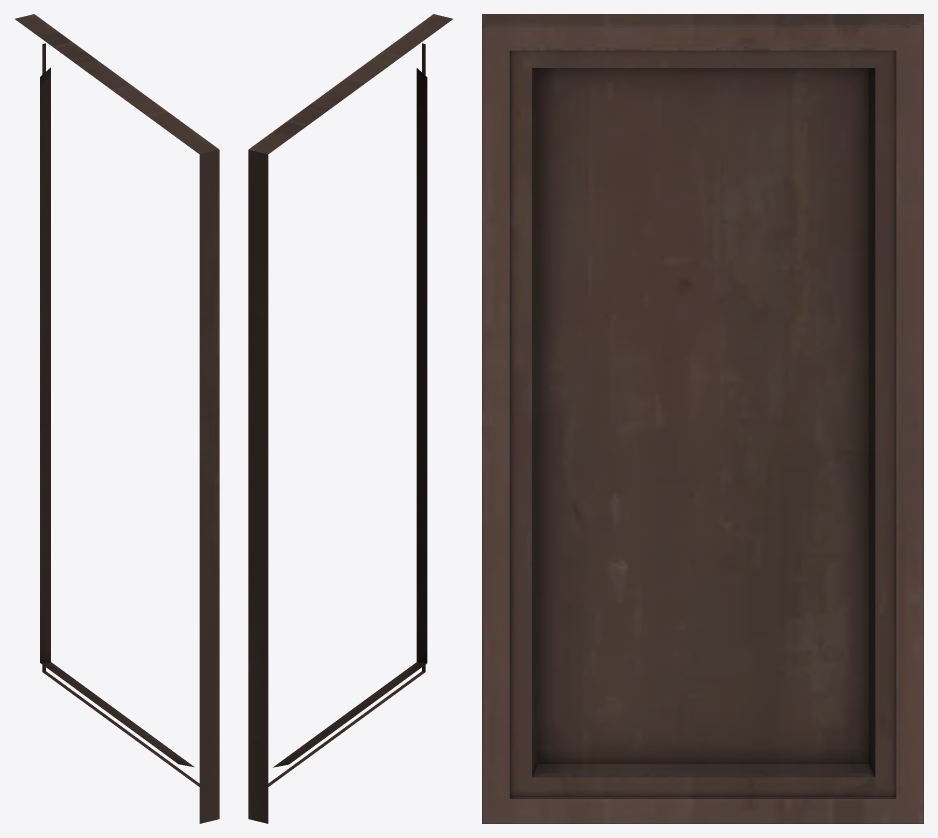
3 renders of one model, left to right at view 1: azimuth 30°, elevation 25°; view 2: azimuth 150°, elevation 25°; view 3: azimuth 270°, elevation 25°, orthographic. The views are drawn at different scales.
Parts seen in each view (by area): view 1: body0_model0_lod0_mesh0; view 2: body0_model0_lod0_mesh0; view 3: body0_model0_lod0_mesh0.
Part boxes in pixels (<box>): body0_model0_lod0_mesh0: <box>15,14,219,823</box>; body0_model0_lod0_mesh0: <box>248,14,452,823</box>; body0_model0_lod0_mesh0: <box>482,14,923,823</box>.
Bounding box in the file's own units: 4 × 128 × 64.18.
Materials: 1 (1 with a texture image).
